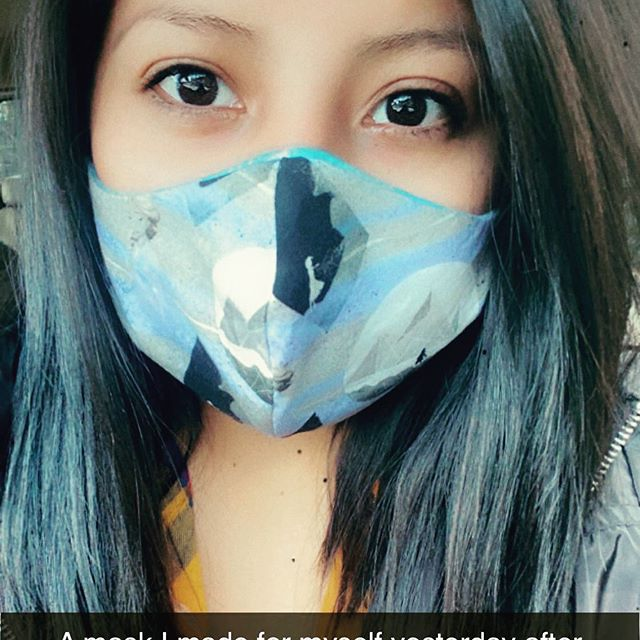homemade: (80, 157, 548, 437)
